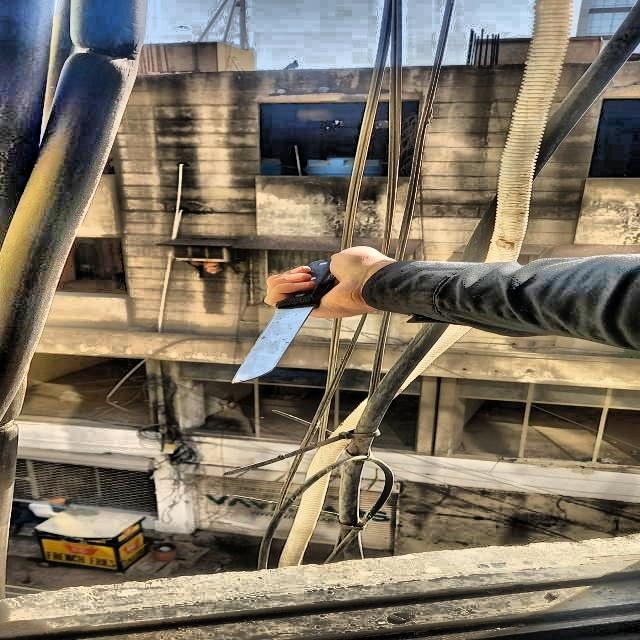knife: (232, 259, 334, 384)
